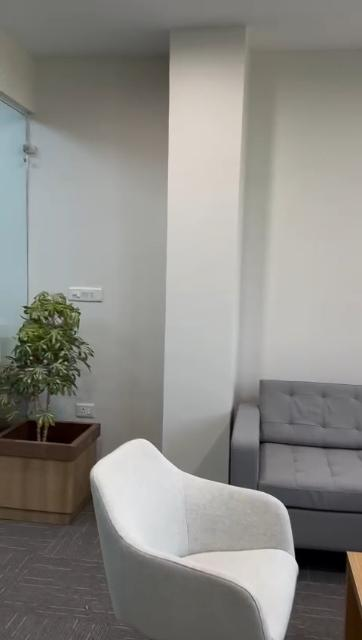floor: (0, 521, 106, 635), (299, 554, 344, 640)
object: (80, 440, 294, 640), (228, 376, 362, 552), (8, 280, 94, 520)
wall: (0, 1, 235, 474), (248, 1, 362, 372), (160, 3, 248, 395)
